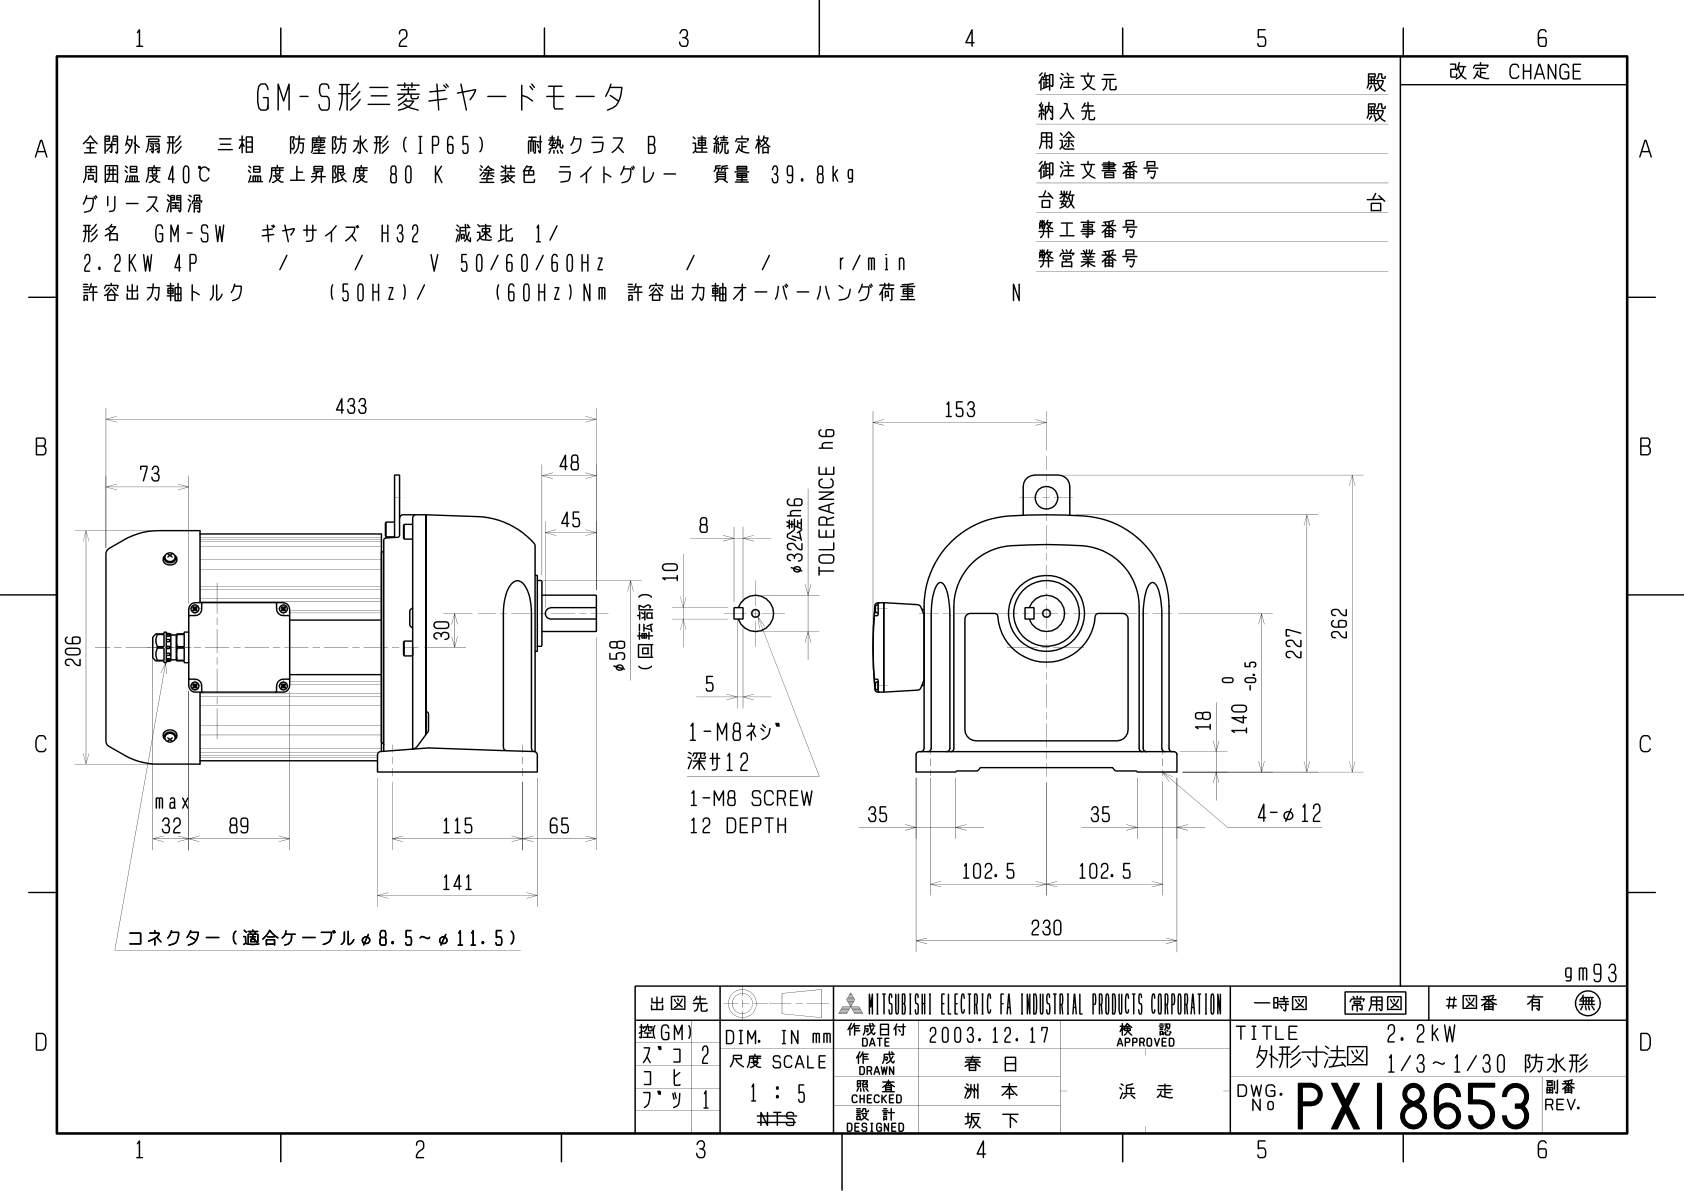GM_S_IP65＿三相_脚: (61, 335, 1392, 967)
